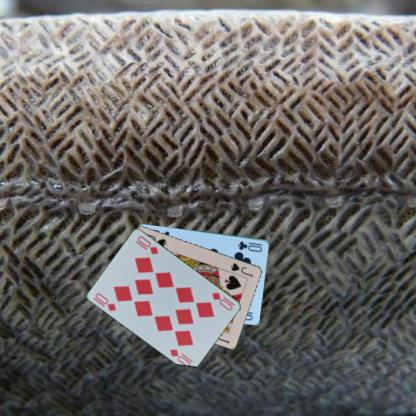10c: (235, 239, 264, 253)
10d: (91, 290, 118, 313), (210, 290, 236, 312)
Js: (228, 260, 254, 278)
